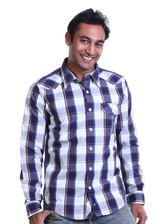clothoes: (16, 56, 150, 218)
